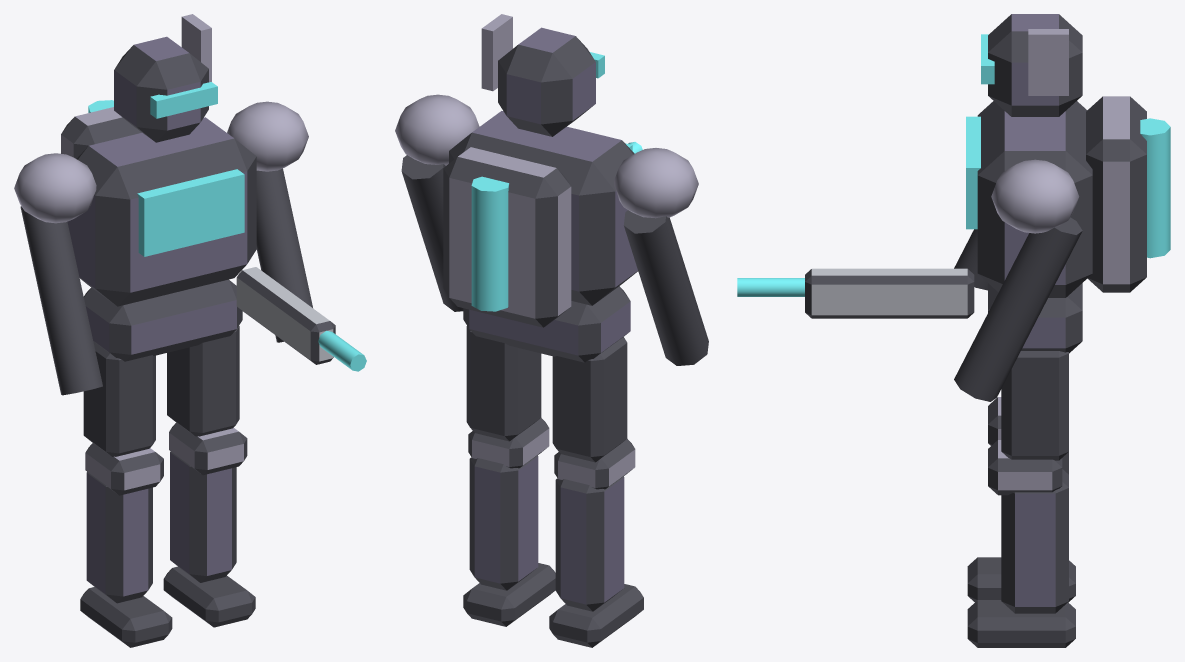
The model's file is sh_trooper.glb.
3 renders of one model, left to right at view 1: azimuth 30°, elevation 25°; view 2: azimuth 150°, elevation 25°; view 3: azimuth 270°, elevation 25°, orthographic. The views are drawn at different scales.
Parts seen in each view (by area): view 1: sh_trooper; view 2: sh_trooper; view 3: sh_trooper.
Part boxes in pixels (x1,y1,x2,y2): sh_trooper: (14, 14, 366, 647); sh_trooper: (395, 14, 708, 647); sh_trooper: (737, 14, 1170, 647).
Size of the model in its own units: 1.02 by 1.98 by 1.28.
